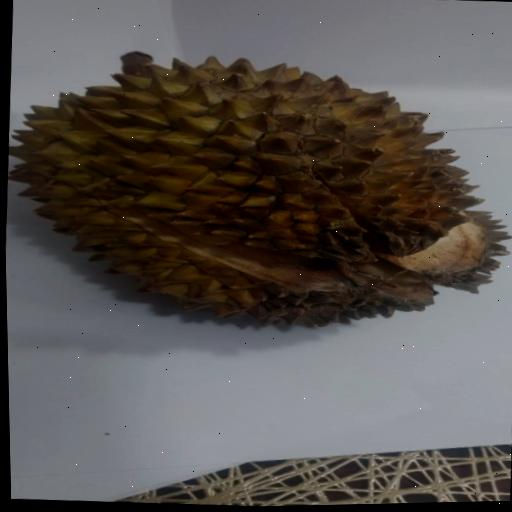rot: (1, 29, 512, 359)
